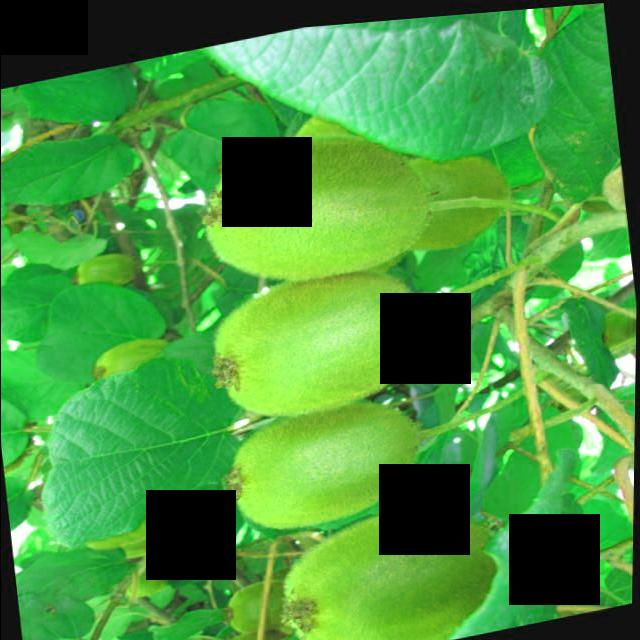kiwi: (192, 109, 445, 296), (267, 480, 530, 640), (201, 250, 439, 426), (215, 384, 438, 540), (386, 133, 520, 258)
